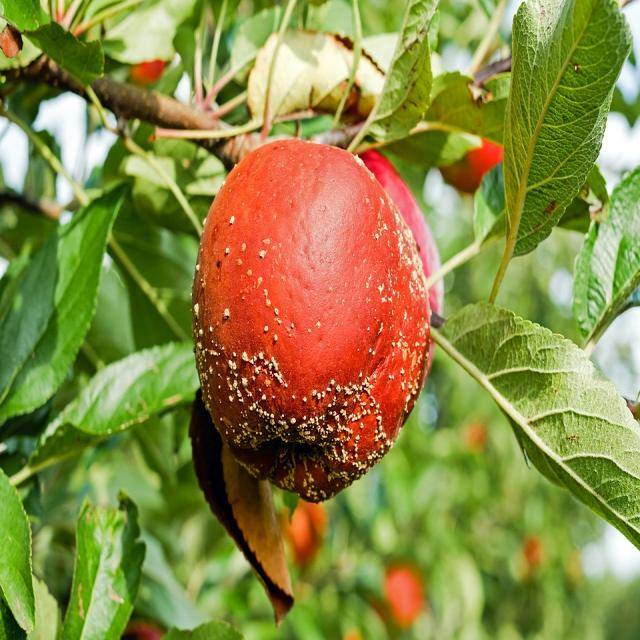Apple: (193, 140, 432, 497)
